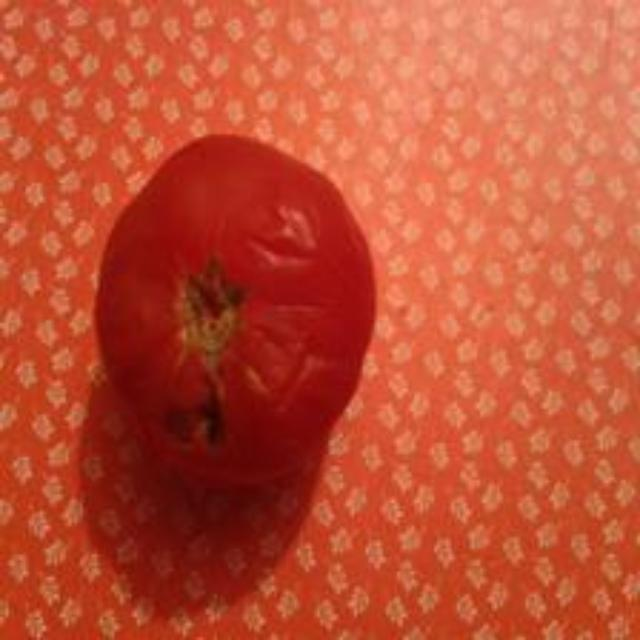defect: (92, 127, 381, 484)
